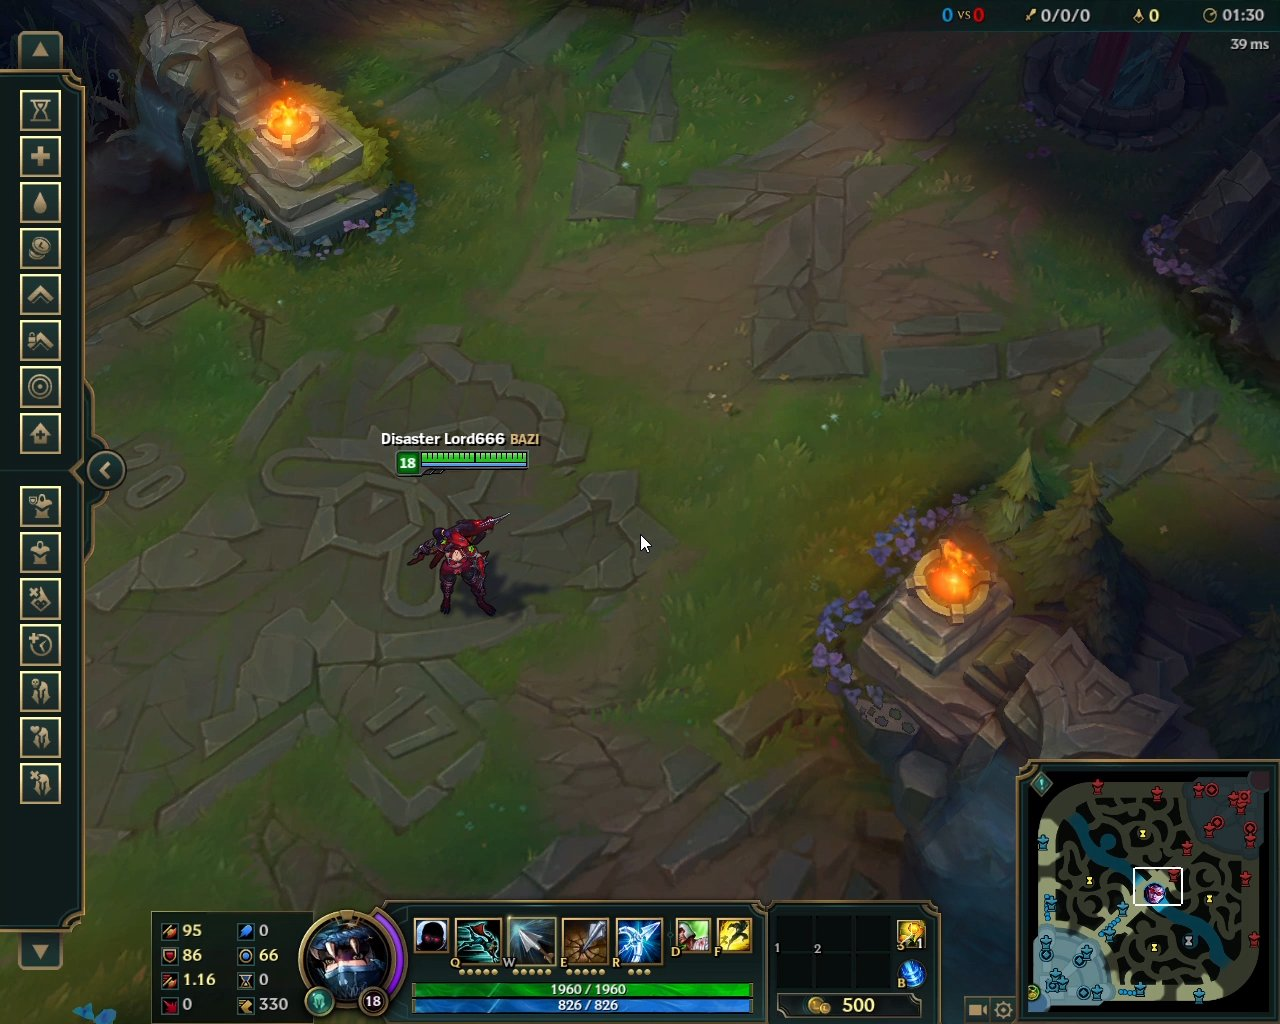Vayne: (403, 506, 518, 621)
